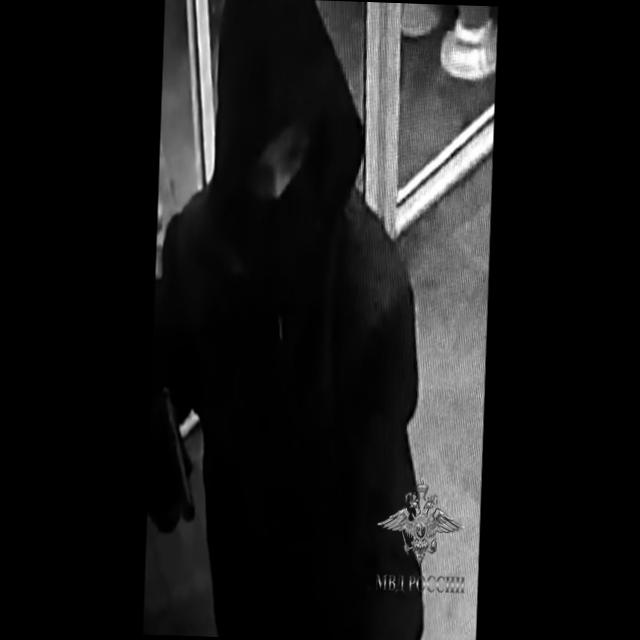gun: (149, 371, 201, 540)
person with a gun: (144, 1, 438, 640)
